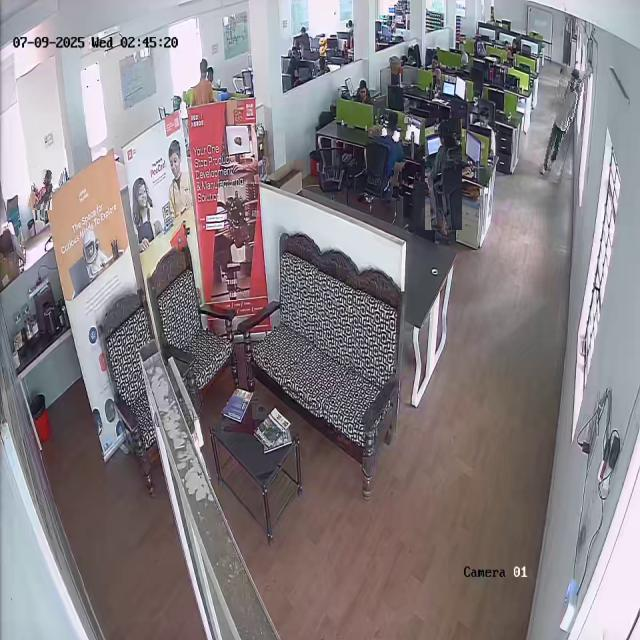person: (426, 118, 464, 230), (544, 66, 580, 183), (368, 109, 410, 200), (30, 167, 54, 211)
